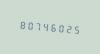eight: (17, 17, 24, 31)
five: (73, 22, 80, 36)
four: (41, 19, 48, 33)
seven: (33, 18, 40, 33)
six: (49, 19, 56, 34)
two: (65, 21, 72, 35)
zero: (25, 17, 32, 32), (57, 20, 64, 35)
